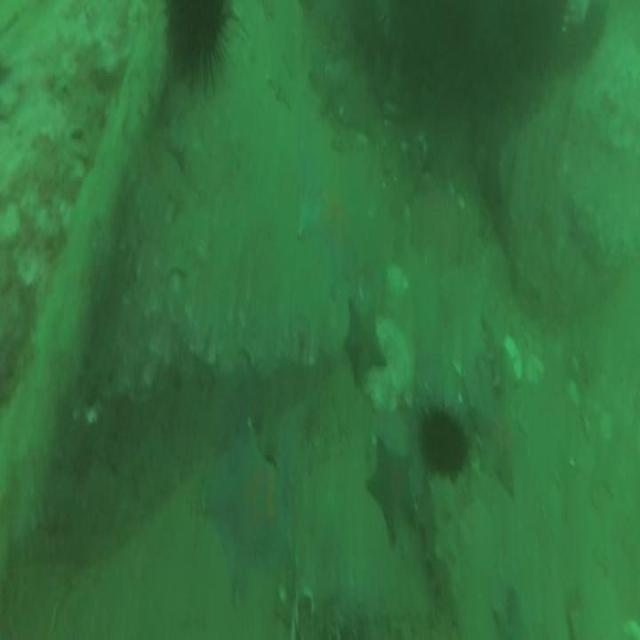scallop: (164, 2, 225, 71), (422, 412, 468, 476)
starfish: (198, 432, 295, 598), (295, 141, 374, 289), (468, 370, 521, 490), (367, 442, 415, 540), (341, 300, 387, 389)
